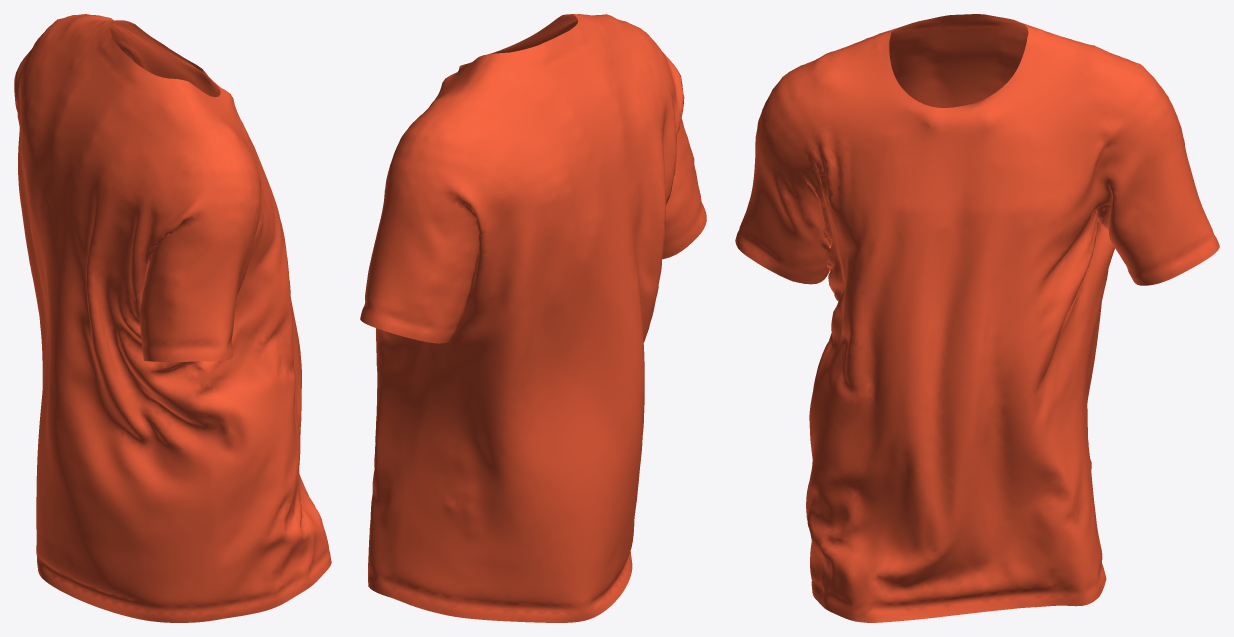
Rendered from 1753937249447-lugaFata.glb.
The picture shows the model from 3 angles, left to right: view 1: azimuth 30°, elevation 25°; view 2: azimuth 150°, elevation 25°; view 3: azimuth 270°, elevation 25°; orthographic projection. The views are drawn at different scales.
Visible parts, largest first — view 1: Material1722, Material1718, Material1724, Material1720; view 2: Material1722, Material1724, Material1718, Material1720; view 3: Material1718, Material1724, Material1722, Material1720.
Boxes of the visible parts, bbox=[...] form: Material1722: bbox=[14, 14, 223, 622]; Material1718: bbox=[88, 14, 331, 618]; Material1724: bbox=[16, 29, 260, 362]; Material1720: bbox=[102, 20, 230, 105]; Material1722: bbox=[392, 14, 677, 622]; Material1724: bbox=[360, 41, 706, 343]; Material1718: bbox=[368, 14, 629, 597]; Material1720: bbox=[454, 14, 586, 76]; Material1718: bbox=[776, 35, 1144, 622]; Material1724: bbox=[735, 75, 1219, 285]; Material1722: bbox=[783, 20, 1151, 586]; Material1720: bbox=[876, 14, 1038, 119].
Size of the model in its own units: 32.85 by 70.89 by 56.91.
Materials: 4 (2 with a texture image).
